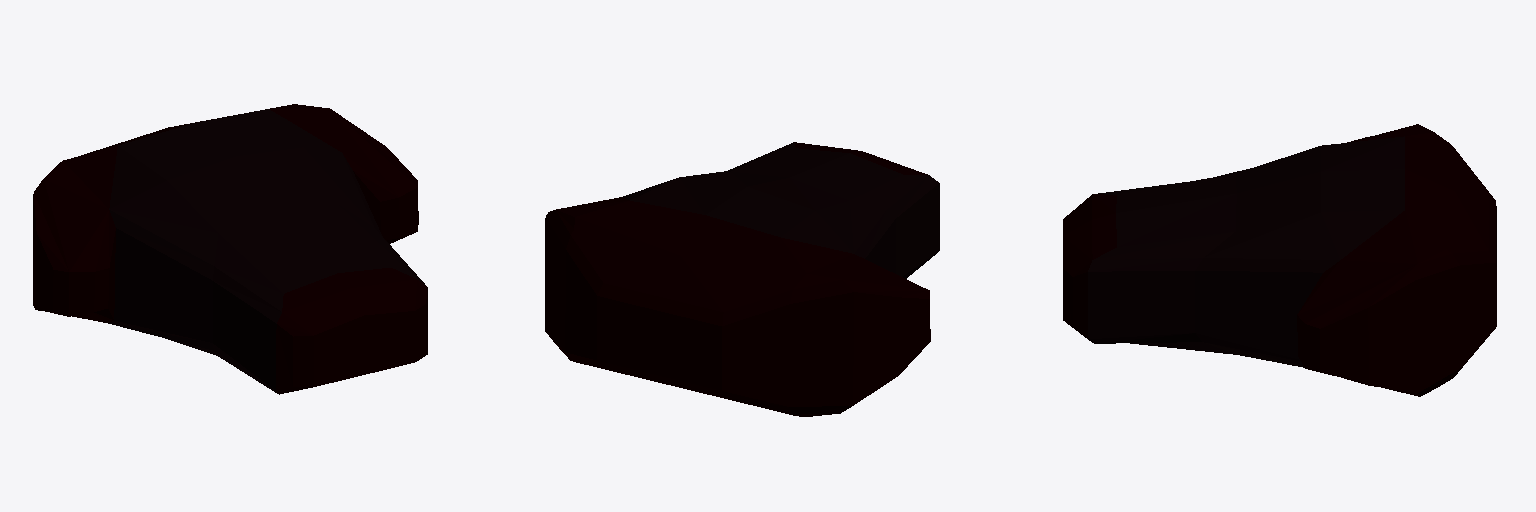
Rendered from IronArmour.obj.
3 views of the same model, side by side, from view 1: azimuth 30°, elevation 25°; view 2: azimuth 150°, elevation 25°; view 3: azimuth 270°, elevation 25° (orthographic).
Visible parts, largest first — view 1: IronArmour; view 2: IronArmour; view 3: IronArmour.
Part boxes in pixels (x1,y1,x2,y2): IronArmour: (33, 104, 427, 394); IronArmour: (545, 142, 939, 416); IronArmour: (1063, 124, 1496, 396).
Size of the model in its own units: 1.01 by 0.4581 by 1.04.